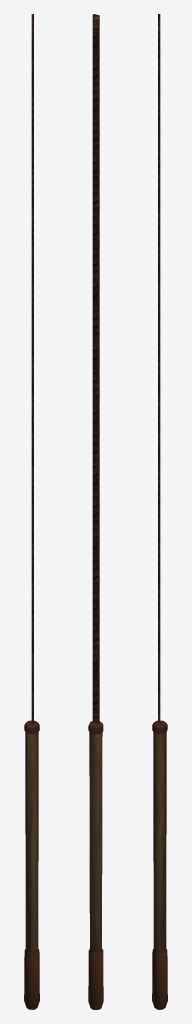
The model's file is whip.fbx.
The picture shows the model from 3 angles, left to right: view 1: azimuth 90°, elevation 25°; view 2: azimuth 150°, elevation 25°; view 3: azimuth 270°, elevation 25°; orthographic projection.
Visible parts, largest first — view 1: whip; view 2: whip; view 3: whip.
Boxes of the visible parts, x1,y1,x2,y2 form: whip: [24, 14, 39, 1009]; whip: [88, 14, 103, 1009]; whip: [152, 14, 167, 1009].
Size of the model in its own units: 4.7 by 327 by 4.72.
1 material, 1 textured.
